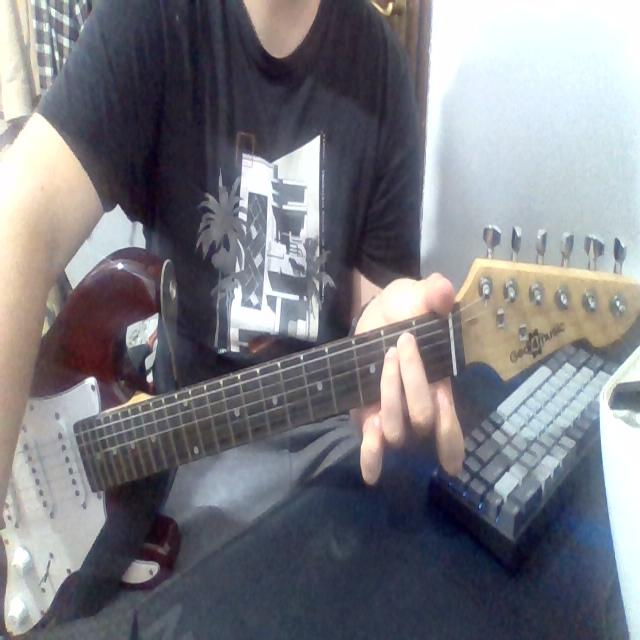Em: (378, 329, 442, 442)
